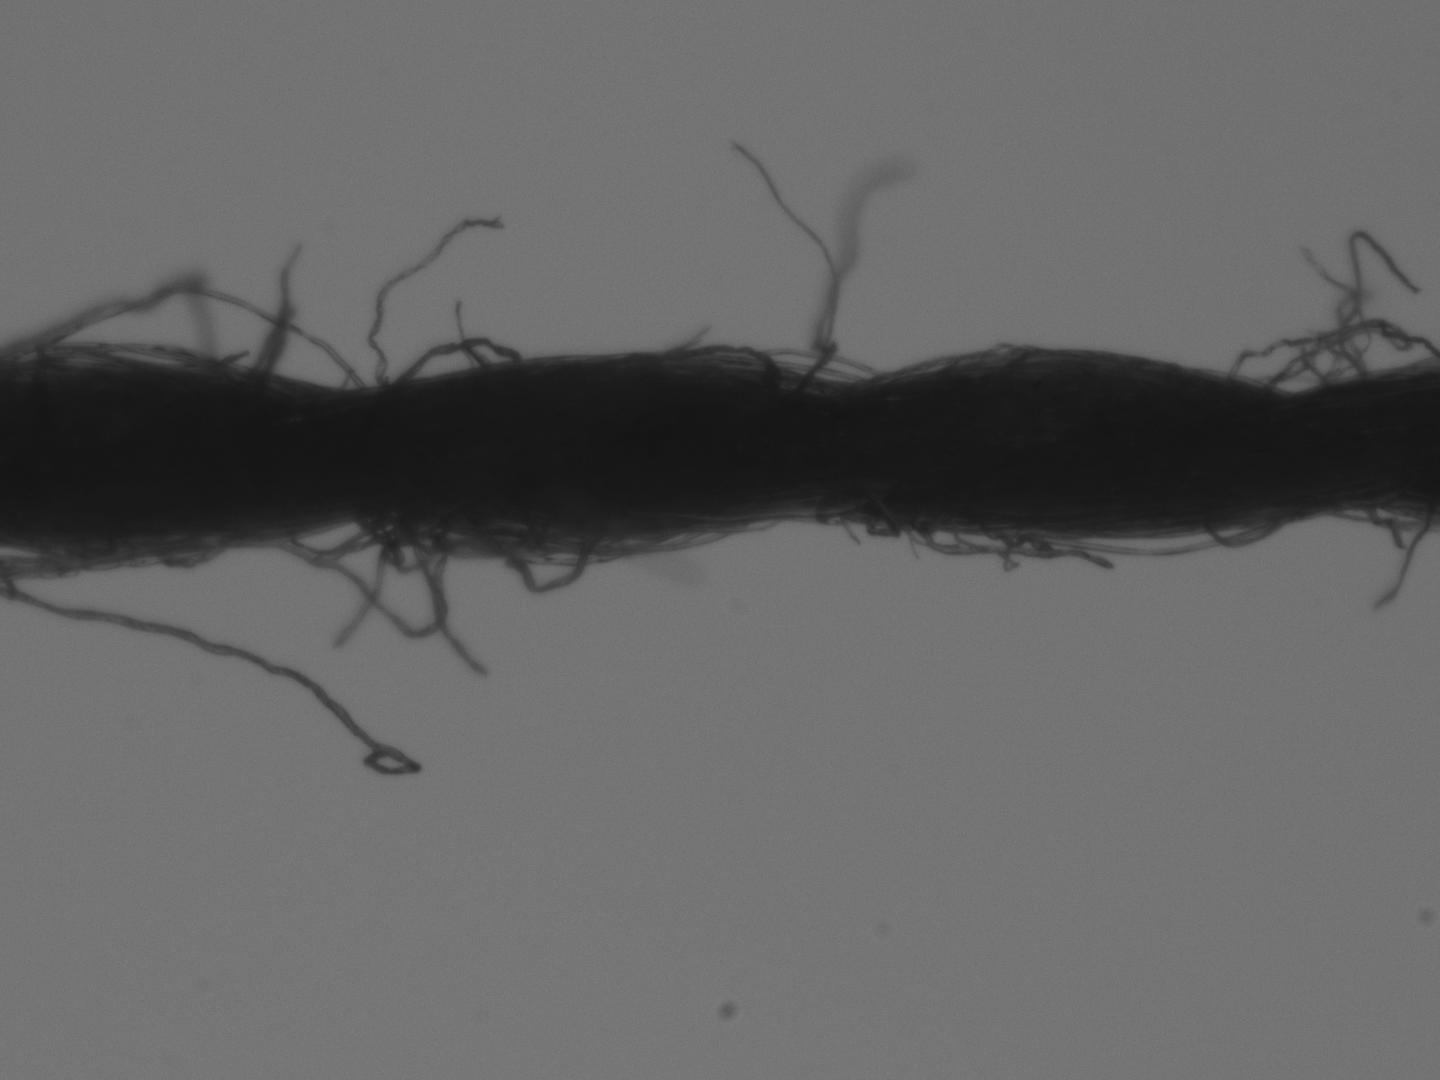loop_fiber: (3, 277, 370, 389), (257, 512, 451, 640), (1226, 313, 1437, 393), (1010, 514, 1285, 555), (917, 530, 1106, 581), (469, 523, 601, 593), (9, 534, 237, 574), (736, 346, 878, 389), (616, 343, 777, 380), (395, 338, 523, 382), (358, 516, 443, 571), (285, 518, 400, 557), (1201, 517, 1286, 549)
protruding_fiber: (6, 574, 424, 776), (728, 135, 838, 388), (369, 216, 506, 387), (1379, 517, 1426, 614), (455, 299, 493, 369)
